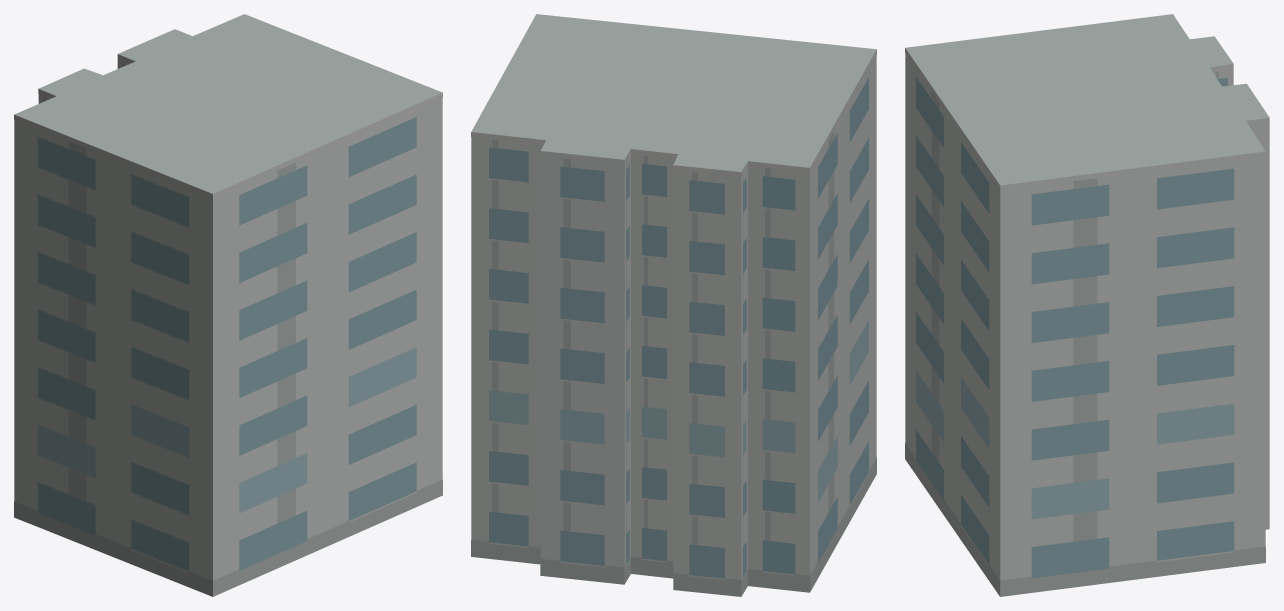
The model's file is survey-upis-32687539.glb.
3 views of the same model, side by side, from view 1: azimuth 30°, elevation 25°; view 2: azimuth 150°, elevation 25°; view 3: azimuth 270°, elevation 25° (orthographic). The views are drawn at different scales.
Parts seen in each view (by area): view 1: survey-upis-32687539.tmp; view 2: survey-upis-32687539.tmp; view 3: survey-upis-32687539.tmp.
Boxes of the visible parts, x1,y1,x2,y2 form: survey-upis-32687539.tmp: [14, 14, 442, 596]; survey-upis-32687539.tmp: [471, 14, 876, 596]; survey-upis-32687539.tmp: [905, 14, 1269, 596].
Size of the model in its own units: 17.71 by 19.8 by 15.91.
